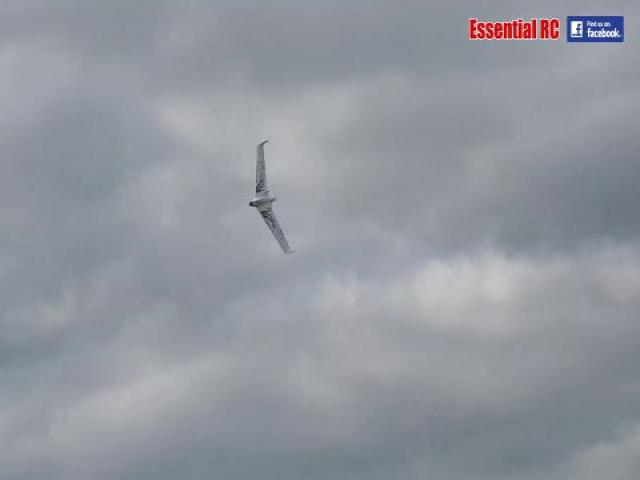flying wing: (247, 138, 298, 257)
